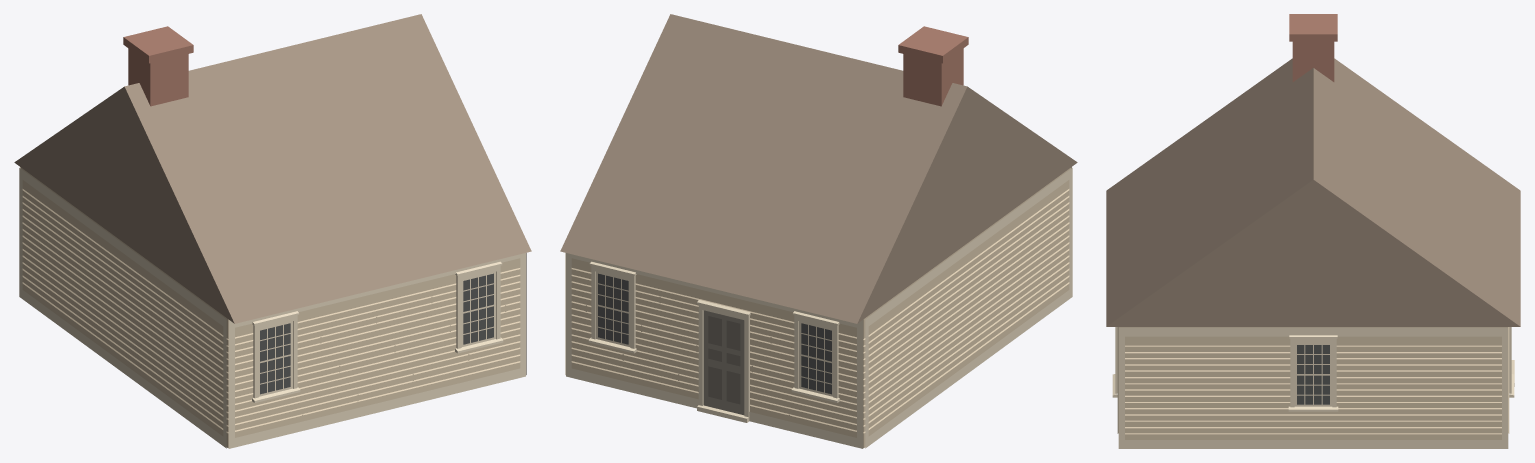
File: recon_1835_north_d4_039__inferred_1835.glb
The picture shows the model from 3 angles, left to right: view 1: azimuth 30°, elevation 25°; view 2: azimuth 150°, elevation 25°; view 3: azimuth 270°, elevation 25°; orthographic projection. The views are drawn at different scales.
Visible parts, largest first — view 1: recon_1835_north_d4_039__inferred_1835; view 2: recon_1835_north_d4_039__inferred_1835; view 3: recon_1835_north_d4_039__inferred_1835.
Part boxes in pixels (x1,y1,x2,y2): recon_1835_north_d4_039__inferred_1835: [14, 14, 531, 448]; recon_1835_north_d4_039__inferred_1835: [560, 14, 1077, 448]; recon_1835_north_d4_039__inferred_1835: [1106, 14, 1520, 448].
Size of the model in its own units: 6.7 by 6.8 by 8.41.
